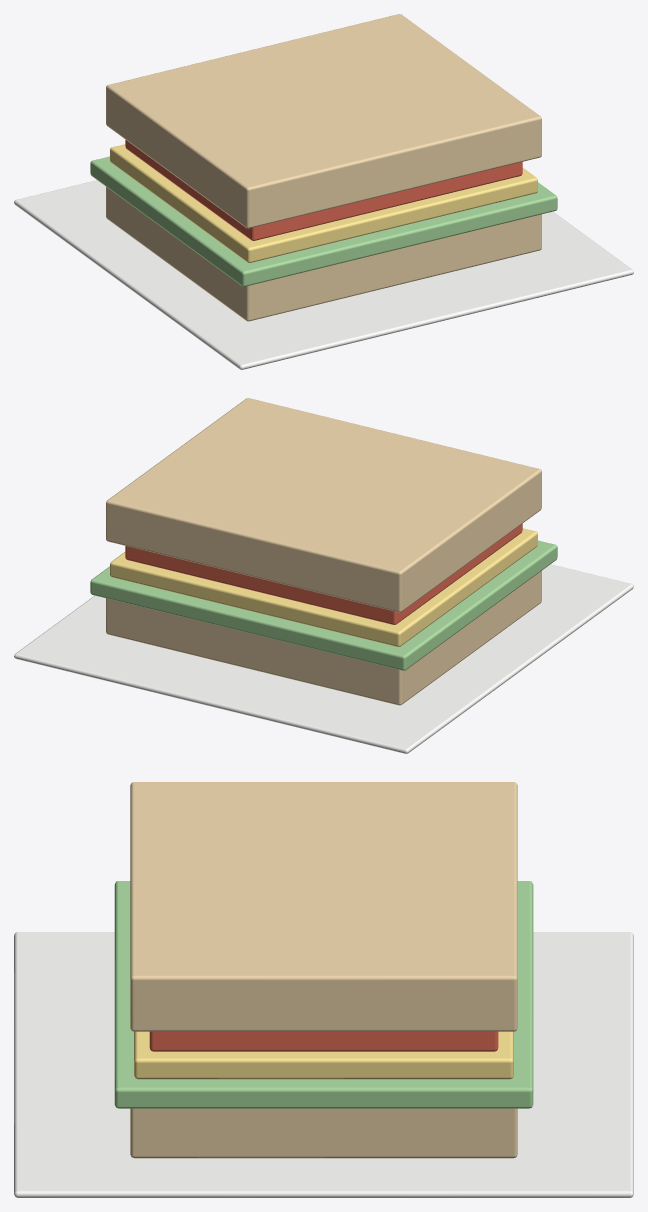
Rendered from SM_Sandwich.fbx.
3 views of the same model, one above another, from view 1: azimuth 30°, elevation 25°; view 2: azimuth 150°, elevation 25°; view 3: azimuth 270°, elevation 25° (orthographic). The views are drawn at different scales.
Visible parts, largest first — view 1: SM_Sandwich; view 2: SM_Sandwich; view 3: SM_Sandwich.
Part boxes in pixels (x1,y1,x2,y2): SM_Sandwich: (14, 14, 633, 369); SM_Sandwich: (14, 398, 633, 753); SM_Sandwich: (14, 782, 633, 1197).
Size of the model in its own units: 0.16 by 0.054 by 0.16.
